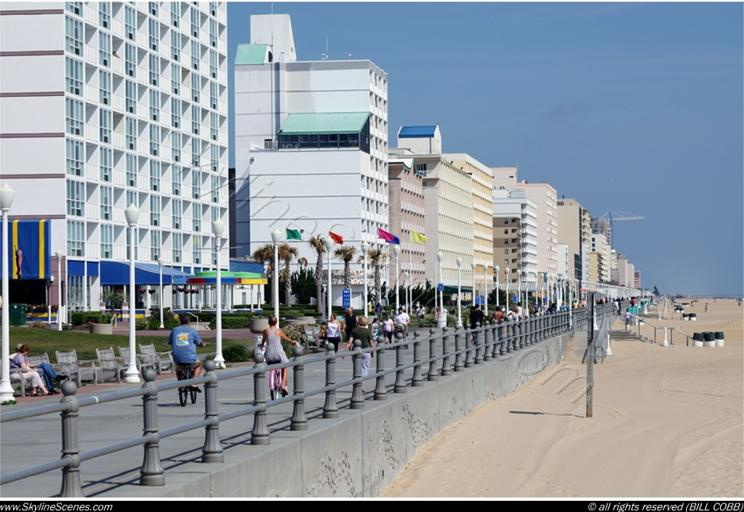non-vehicle: (260, 343, 295, 399), (176, 362, 196, 406)
